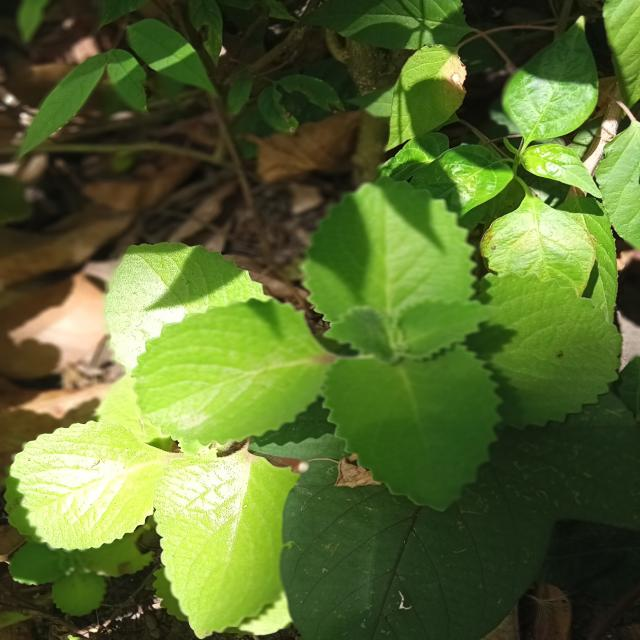Oregano: (276, 166, 630, 509), (82, 272, 513, 528)
